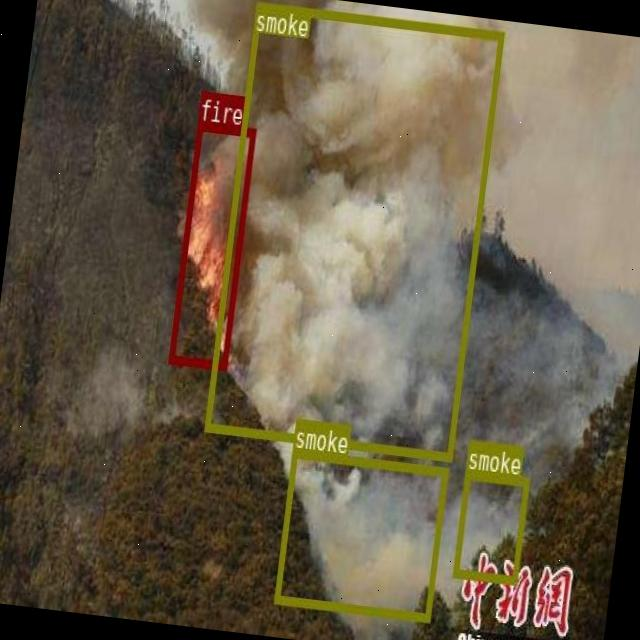fire: (167, 120, 254, 368)
smoke: (204, 0, 503, 459), (273, 448, 447, 620), (452, 469, 528, 582)
